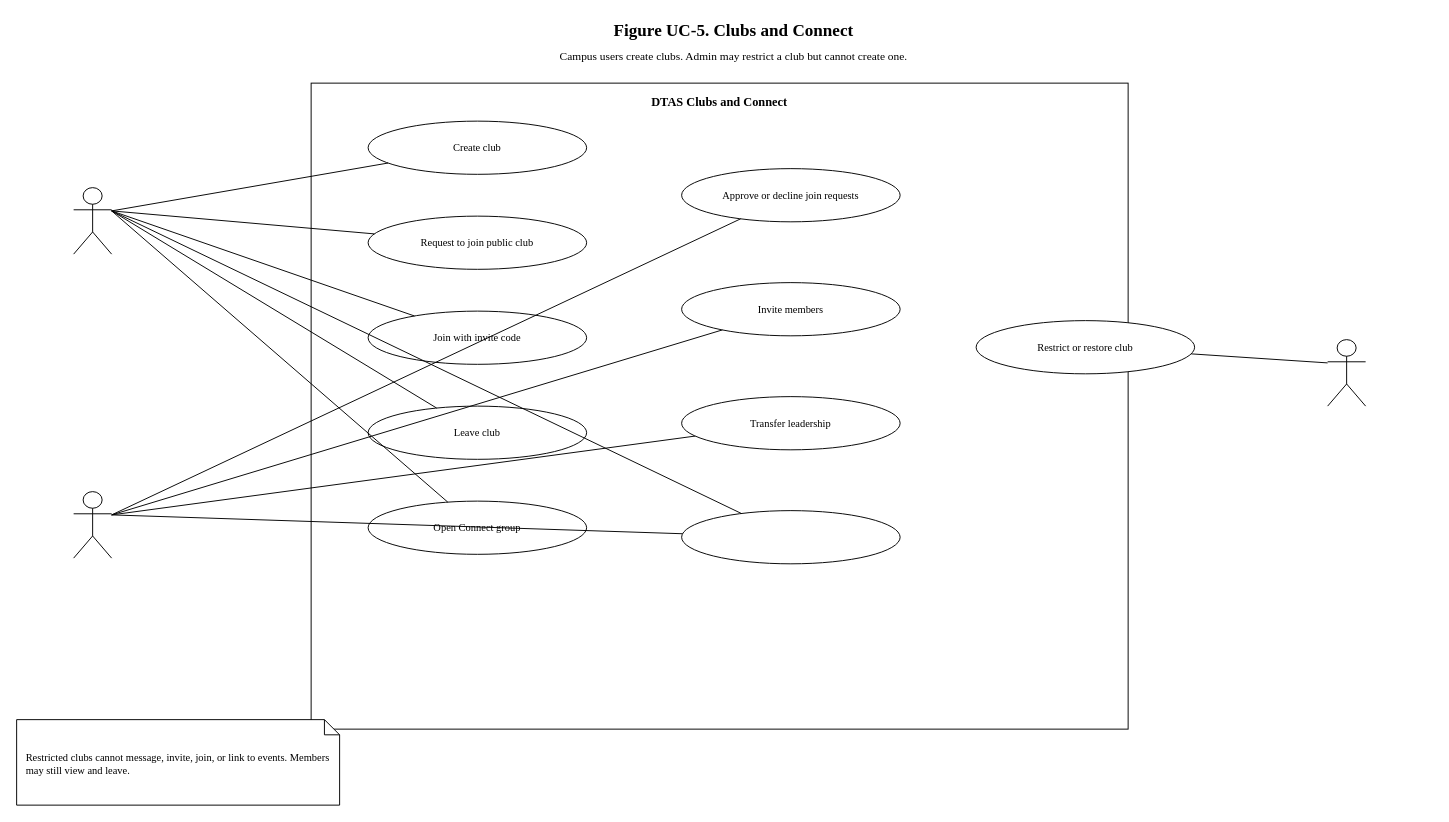
Image size: 1449x822. Some labels were removed from this diagram. The centre of each missing label's shape, as x and y in pixels:
Campus user: point (92, 220)
Club lead: point (92, 524)
System Admin: point (1346, 372)
Use club workspace: point (790, 537)
